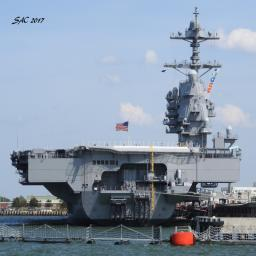Portanaves: (10, 11, 248, 227)
